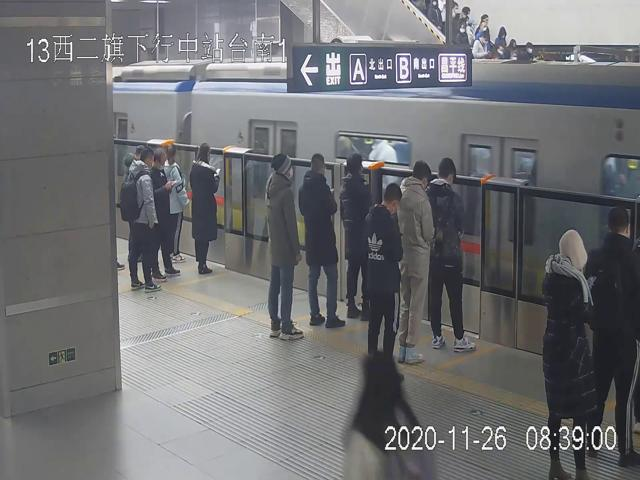person: (591, 208, 640, 479), (541, 229, 593, 480), (426, 156, 479, 351), (298, 153, 346, 328), (395, 160, 434, 362), (264, 154, 303, 340), (363, 183, 403, 356), (340, 154, 372, 321), (125, 148, 161, 294), (190, 142, 219, 273), (152, 148, 180, 280), (164, 139, 186, 264)
